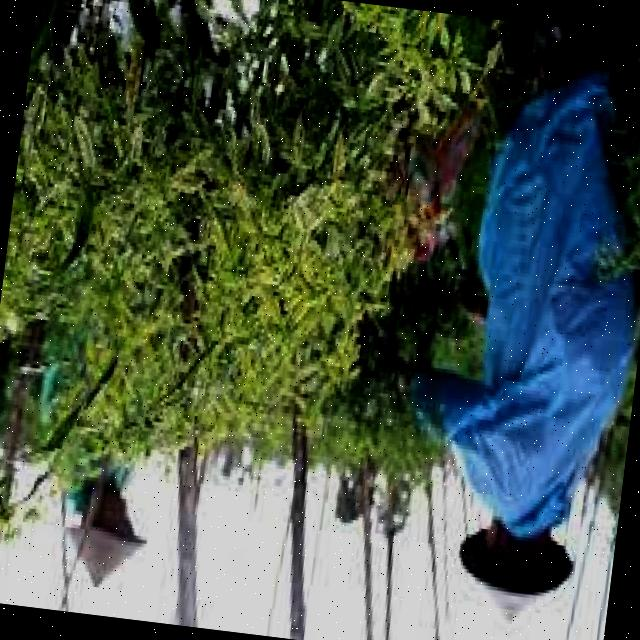yellow: (0, 0, 419, 489)
